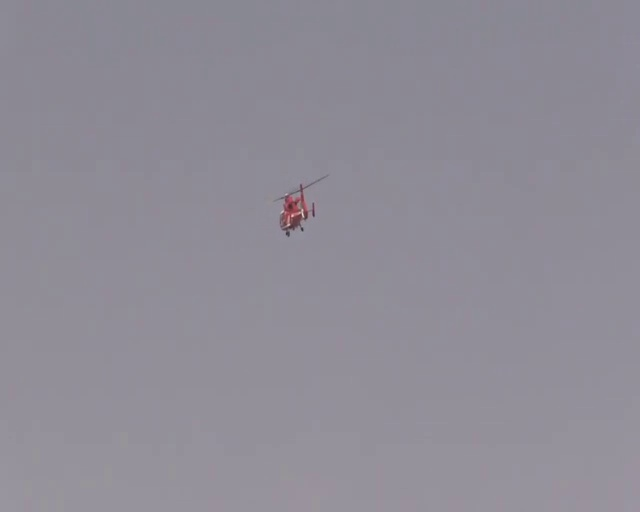HELICOPTER: (272, 172, 329, 236)
